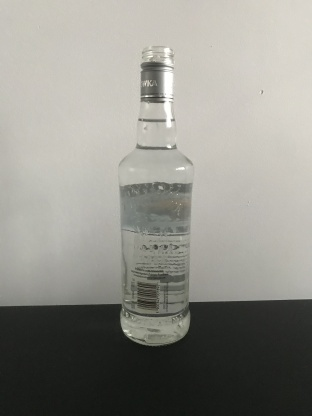nakretka: (138, 44, 176, 103)
